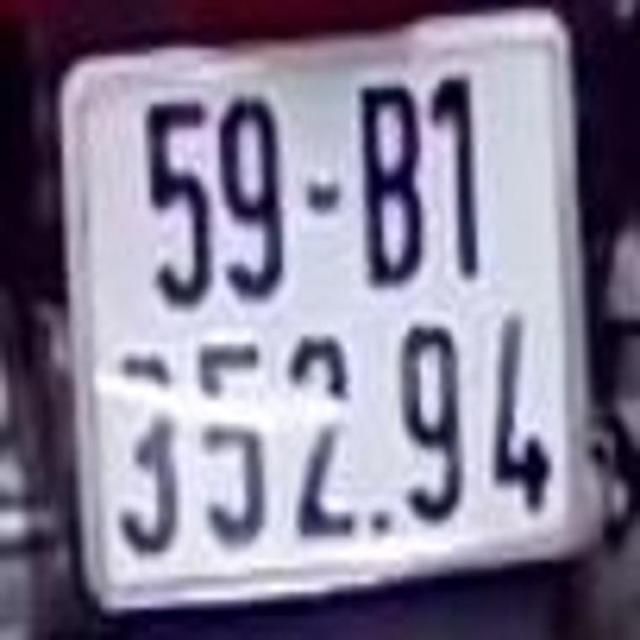1: (431, 72, 489, 280)
2: (285, 328, 359, 539)
3: (110, 347, 181, 558)
4: (488, 306, 556, 517)
5: (194, 334, 270, 547), (142, 94, 216, 307)
9: (217, 89, 287, 304), (396, 316, 466, 524)
B: (355, 79, 426, 290)
